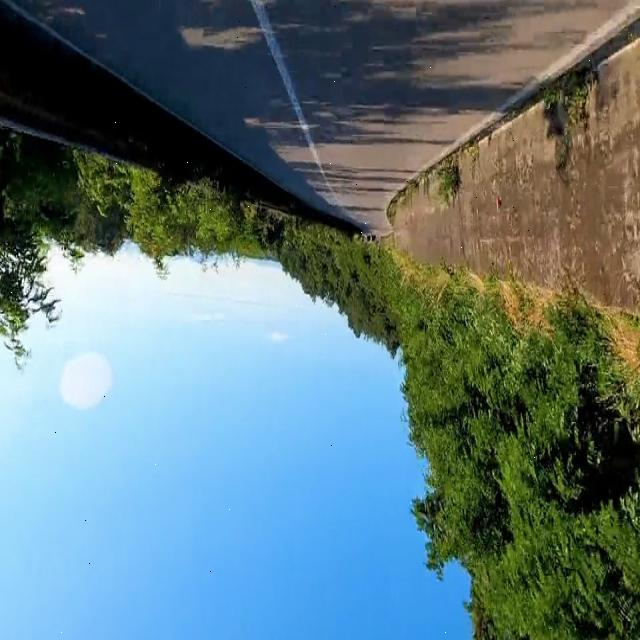lane: (251, 1, 339, 205)
road: (14, 2, 639, 235)
